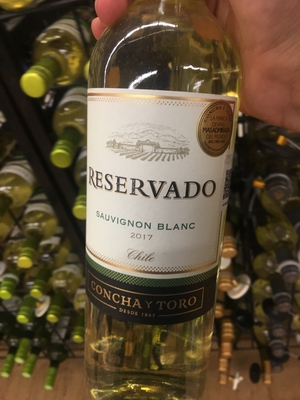reservado sauvignon blanc: (86, 18, 247, 393)
